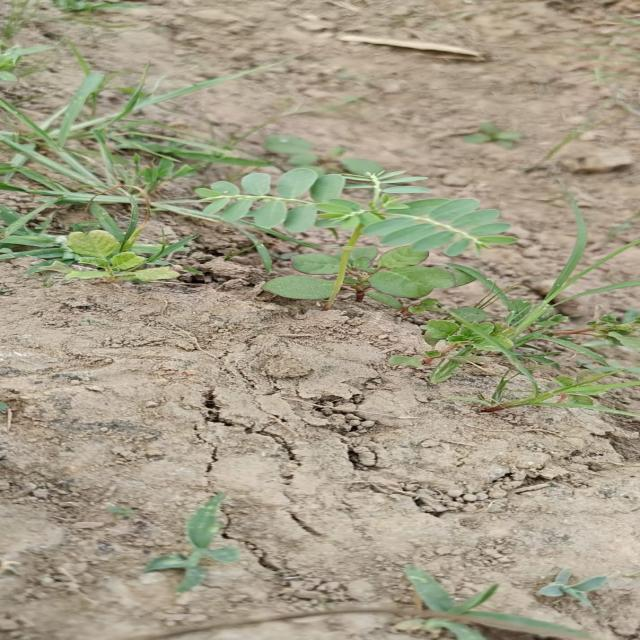plant: (150, 166, 516, 311)
